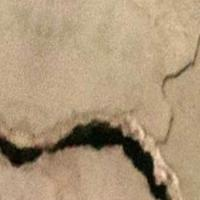crack: (0, 51, 199, 199)
